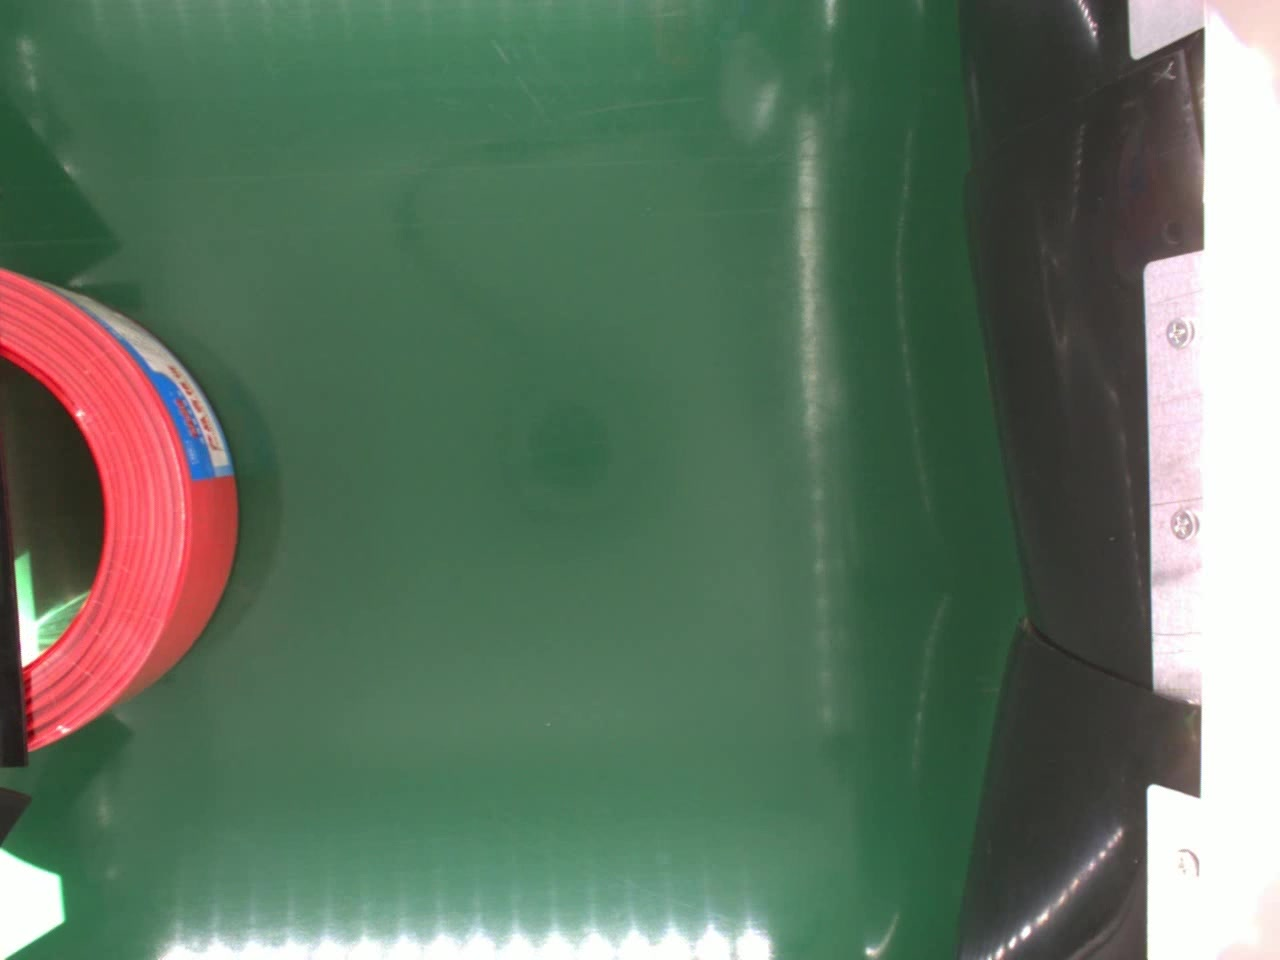red: (0, 262, 241, 757)
